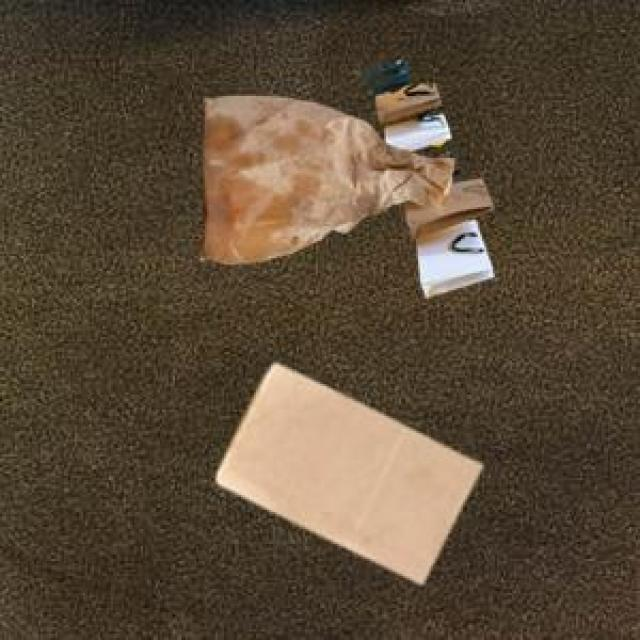PaperCardboard: (212, 356, 479, 595), (190, 96, 448, 273), (372, 66, 490, 300)
